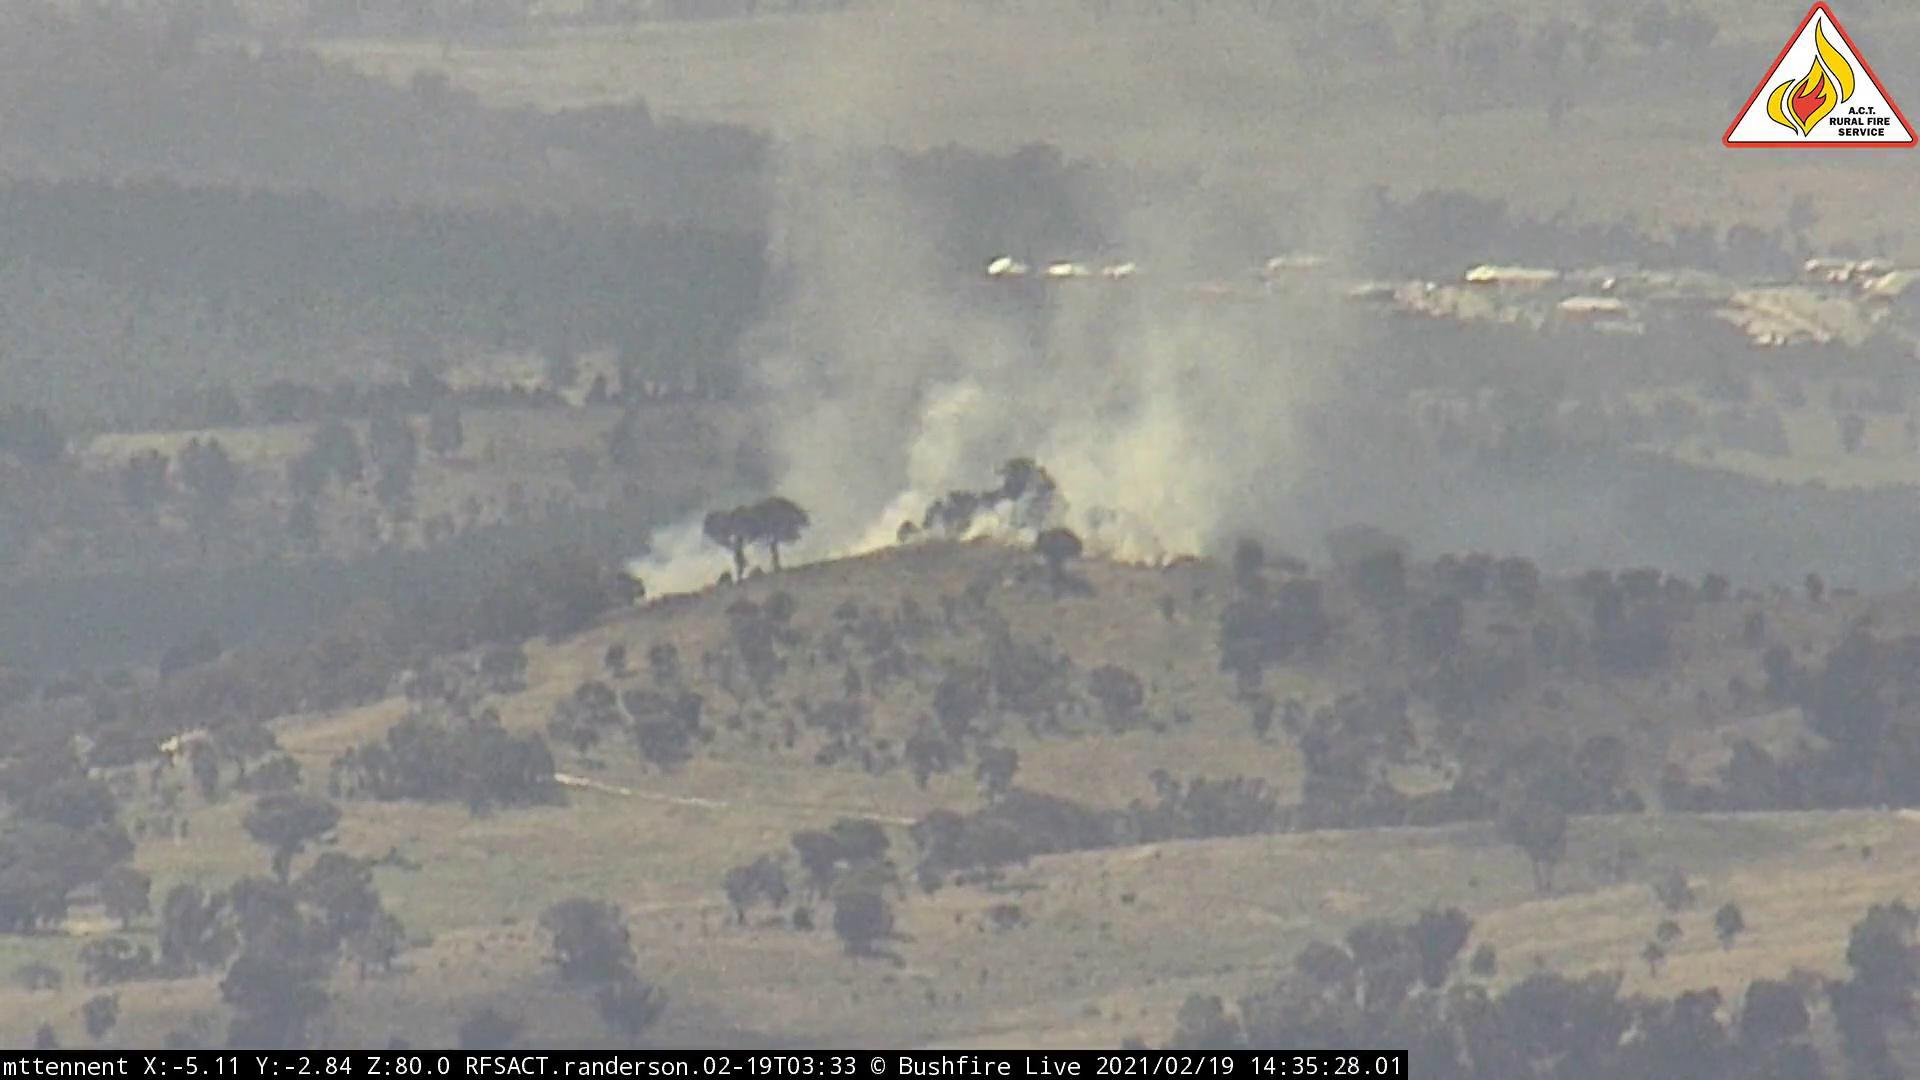Smoke: (629, 25, 1528, 615)
